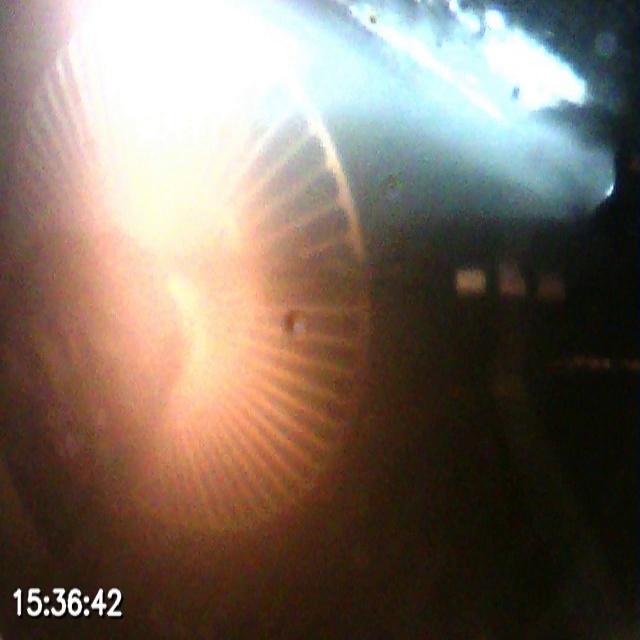white-dots: (454, 264, 566, 305)
